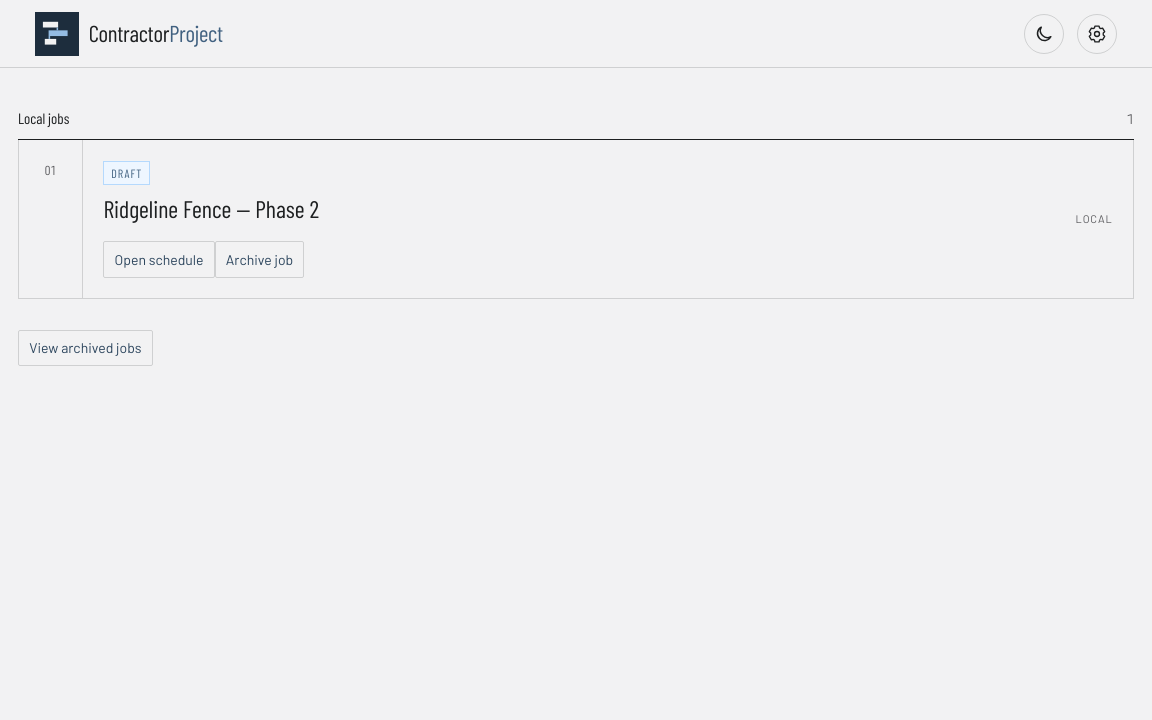
Test: job workspace › loads one job hierarchy on demand and renders nested tasks in application order
What coordinates should you click on to do the following:
click the button "Open schedule"
I would click on:
 (159, 259)
Its box is 103,241 -> 215,278.
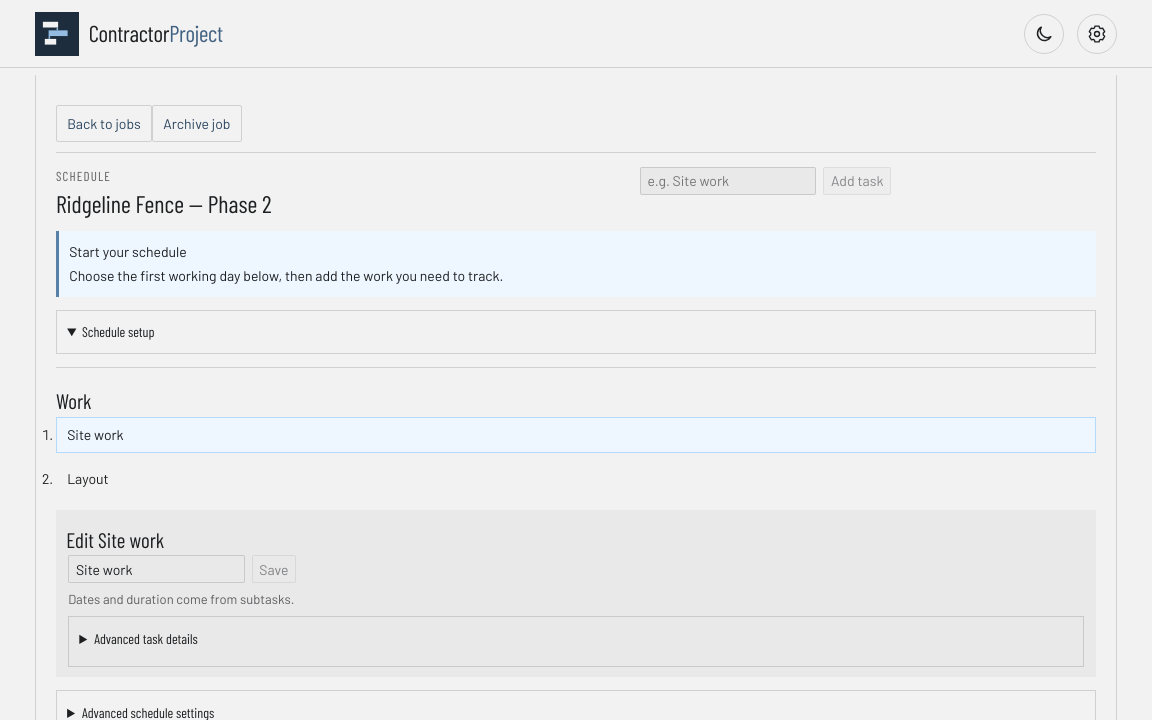
Expected: the button "Site work" is shown, 56,417 -> 1096,453
Expected: the button "Layout" is shown, 56,460 -> 1096,497
